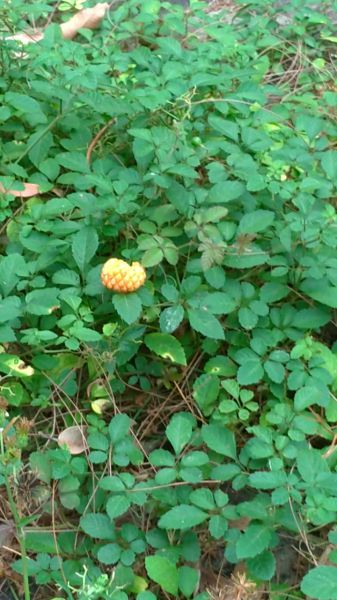eggs: (97, 253, 152, 296)
